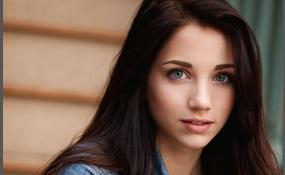face: (149, 26, 238, 150)
